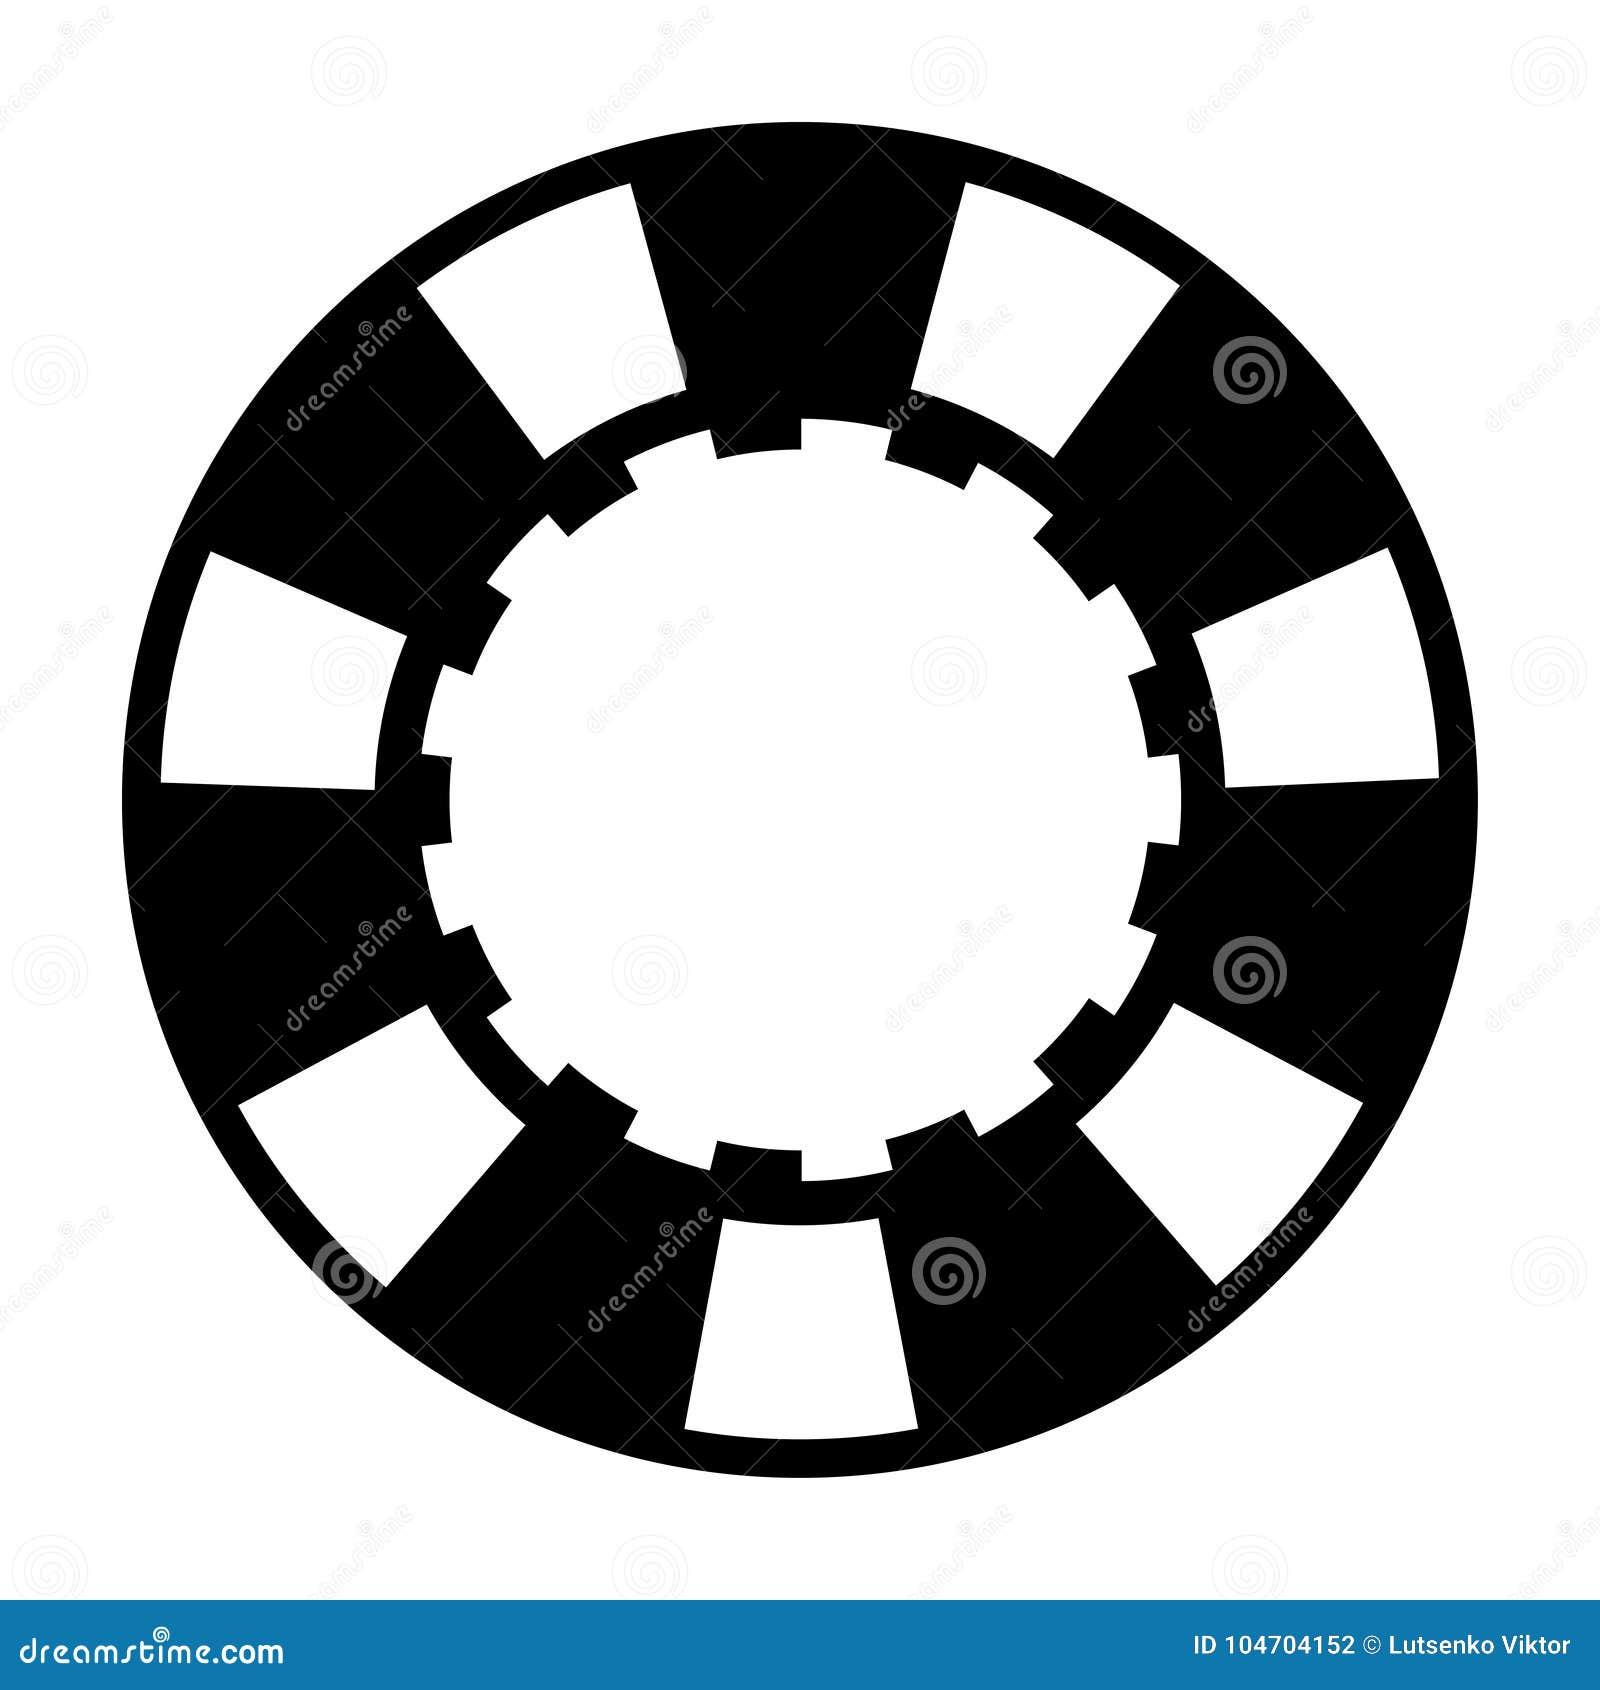chip-black: (122, 122, 1475, 1475)
